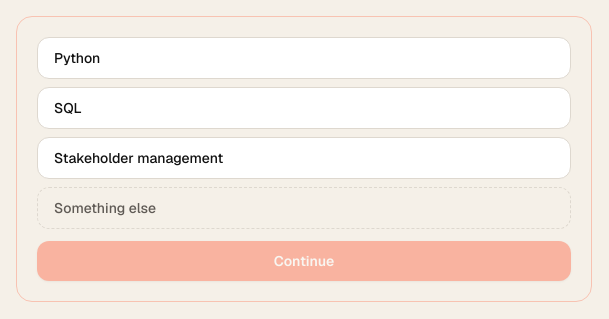
Test: QuickOptions › multiSelect › clicking a selected option again deselects it
Click the button "Python". click: (77, 58)
box: [37,37,571,79]
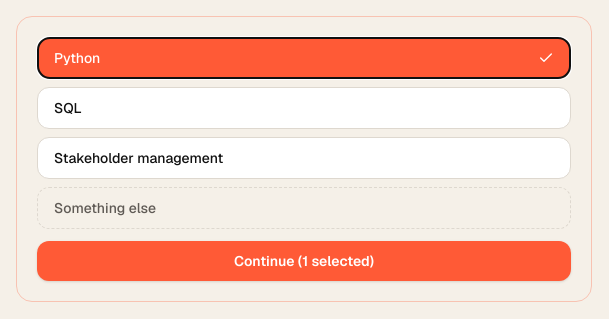
Result: the button "Python" is pressed
Click the button "Python". click: (77, 58)
box: [37,37,571,79]
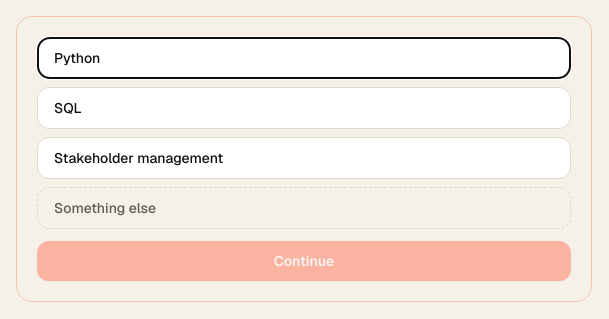
Result: the button "Continue" is disabled at [37,241,571,281]
